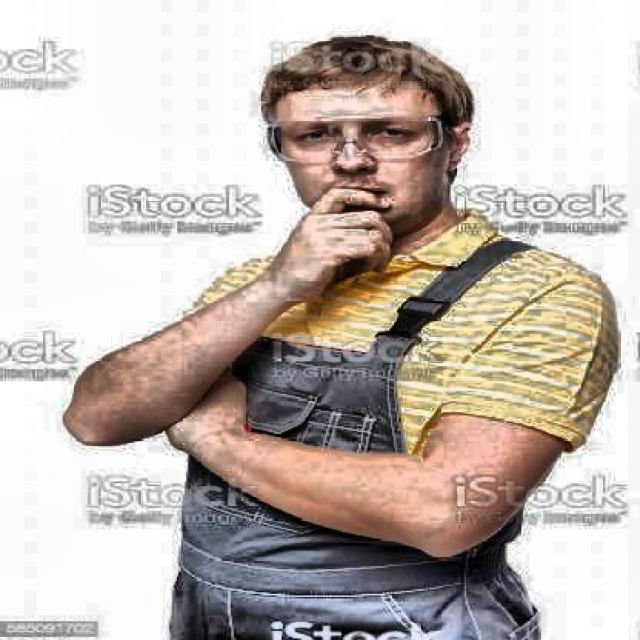Goggles: (251, 110, 468, 173)
